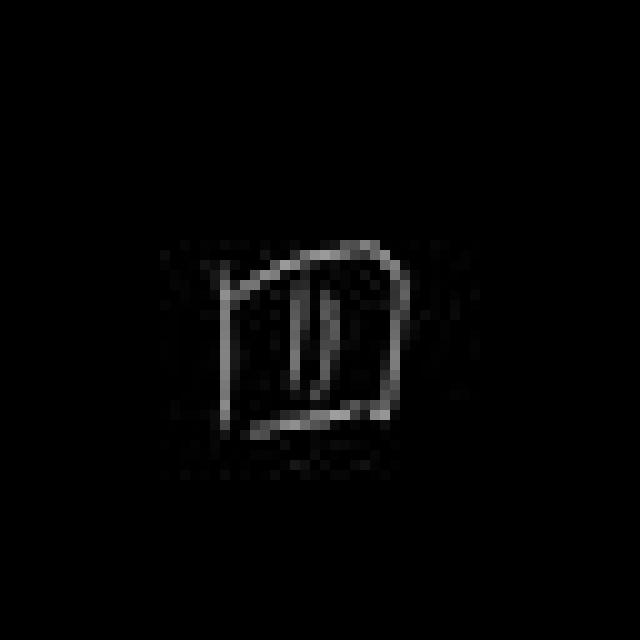4 -four-: (192, 230, 429, 454)
